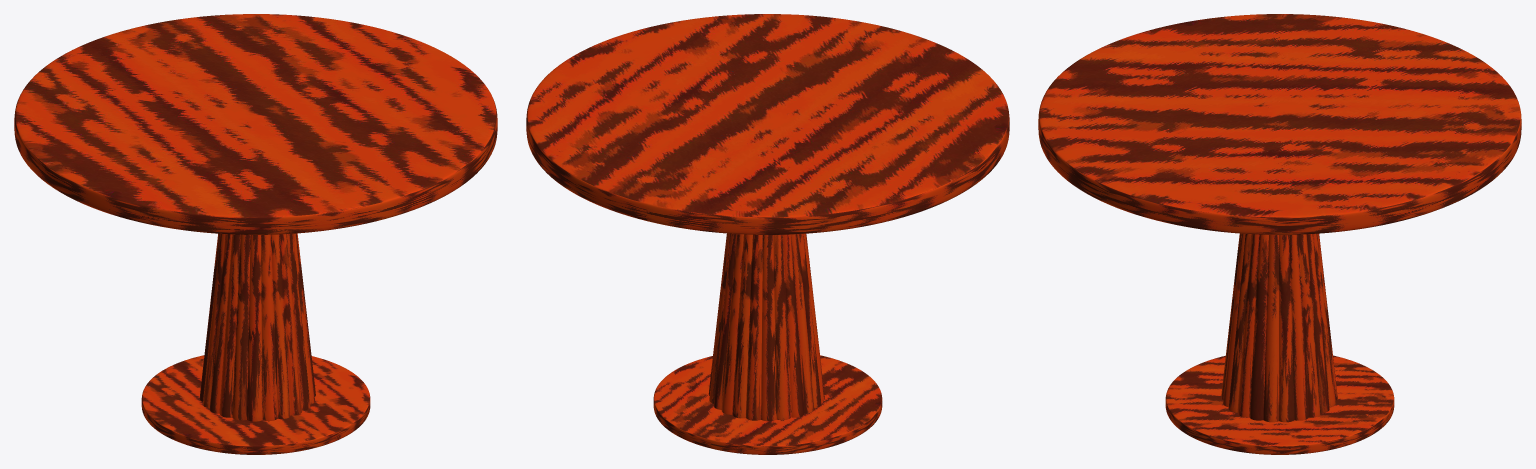
File: table.fbx
The picture shows the model from 3 angles, left to right: view 1: azimuth 30°, elevation 25°; view 2: azimuth 150°, elevation 25°; view 3: azimuth 270°, elevation 25°; orthographic projection.
Parts seen in each view (by area): view 1: desktop.002, pillar.002, base.002; view 2: desktop.002, pillar.002, base.002; view 3: desktop.002, pillar.002, base.002.
Boxes of the visible parts, x1,y1,x2,y2 form: desktop.002: (14, 14, 497, 234); pillar.002: (199, 233, 315, 421); base.002: (141, 355, 370, 454); desktop.002: (526, 14, 1009, 234); pillar.002: (708, 233, 824, 421); base.002: (653, 355, 882, 454); desktop.002: (1038, 14, 1521, 234); pillar.002: (1221, 233, 1337, 422); base.002: (1165, 355, 1394, 454).
Size of the model in its own units: 5.51 by 5.51 by 3.68.
